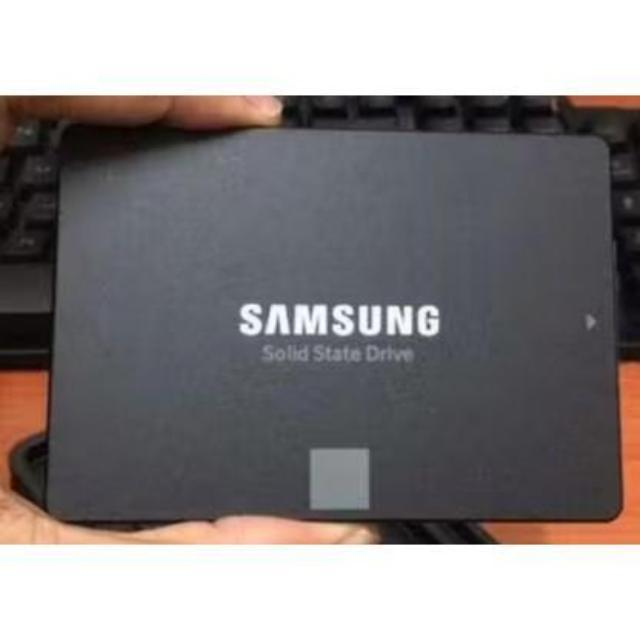DISK: (47, 100, 630, 526)
